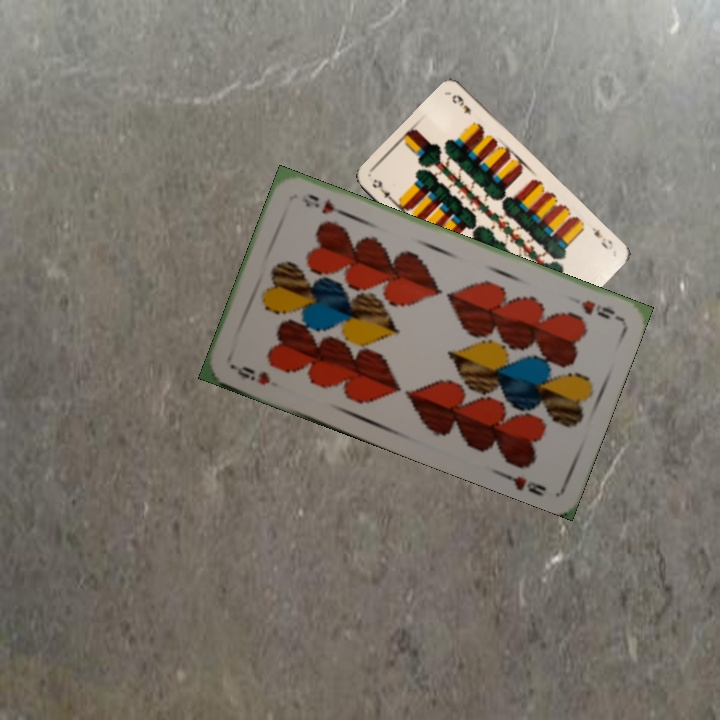E9: (368, 175, 399, 207), (588, 223, 610, 252)
H9: (228, 361, 273, 388), (577, 296, 622, 322)
